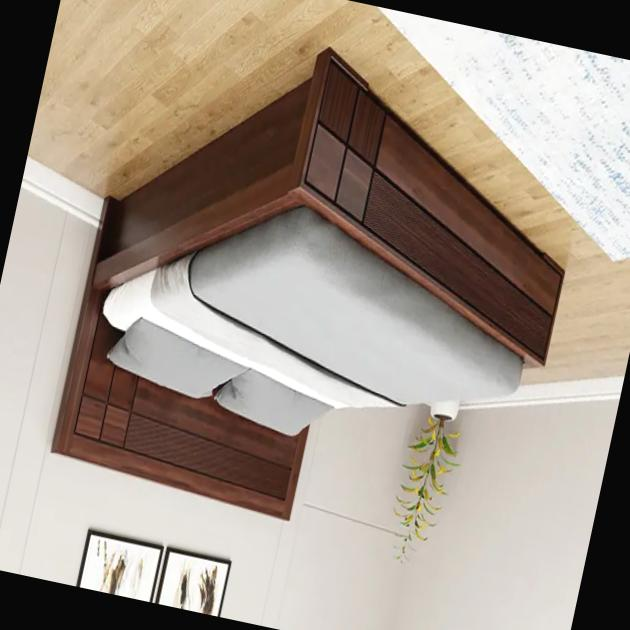bed: (0, 21, 568, 596)
